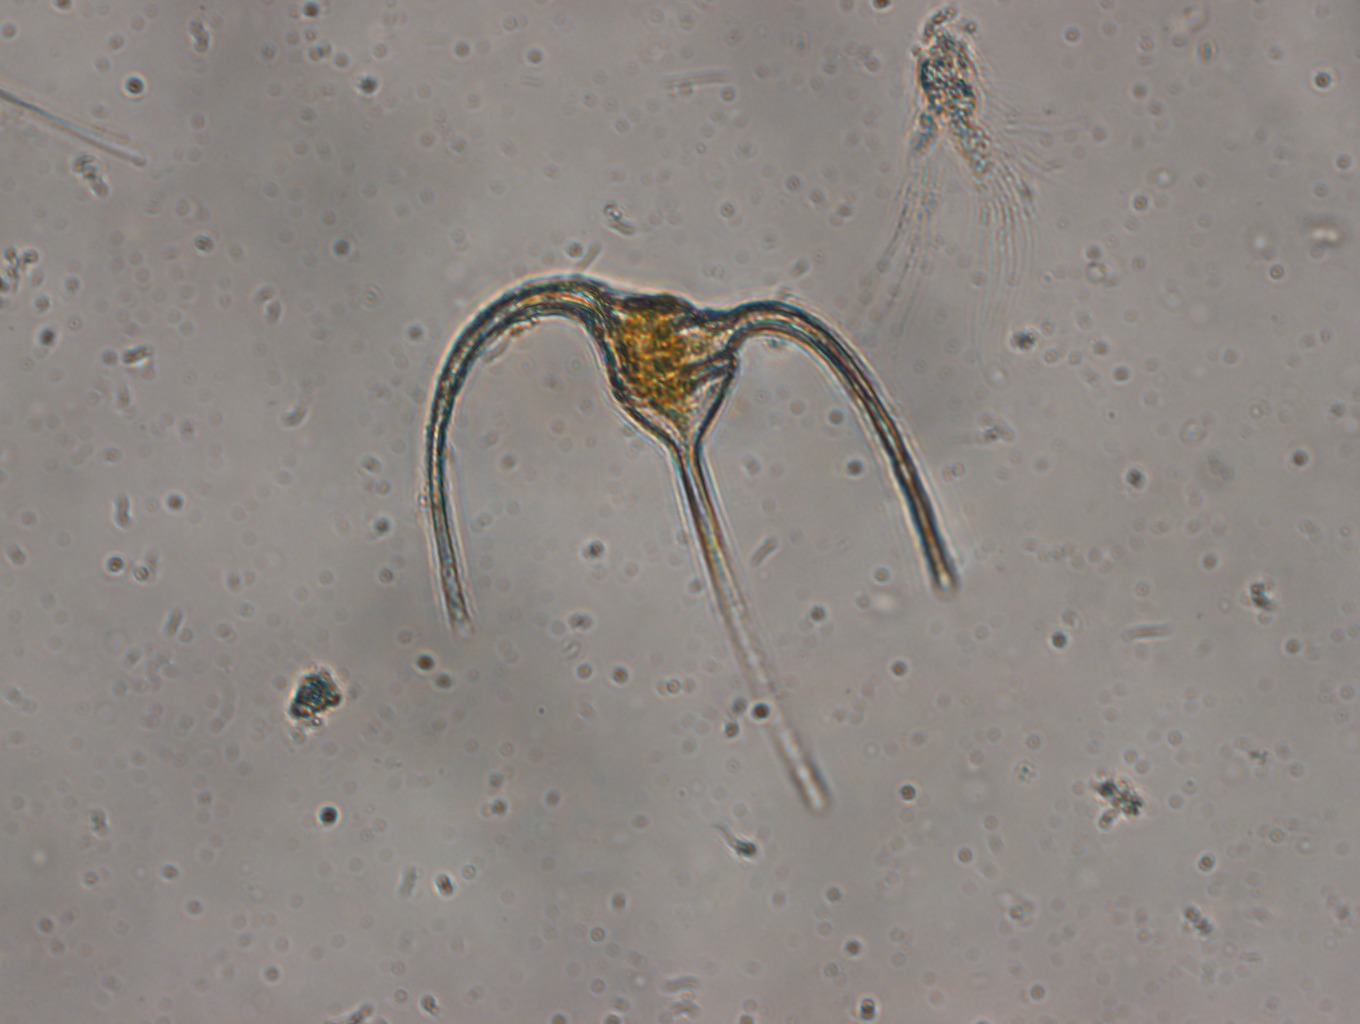ceratium trichoceros: (410, 262, 970, 824)
